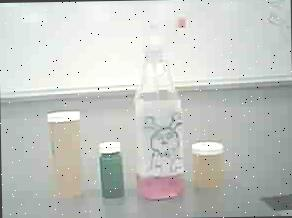Bottle A: (42, 103, 92, 203)
Bottle B: (188, 130, 229, 191)
Bottle C: (94, 136, 130, 206)
hazard: (130, 9, 192, 207)
